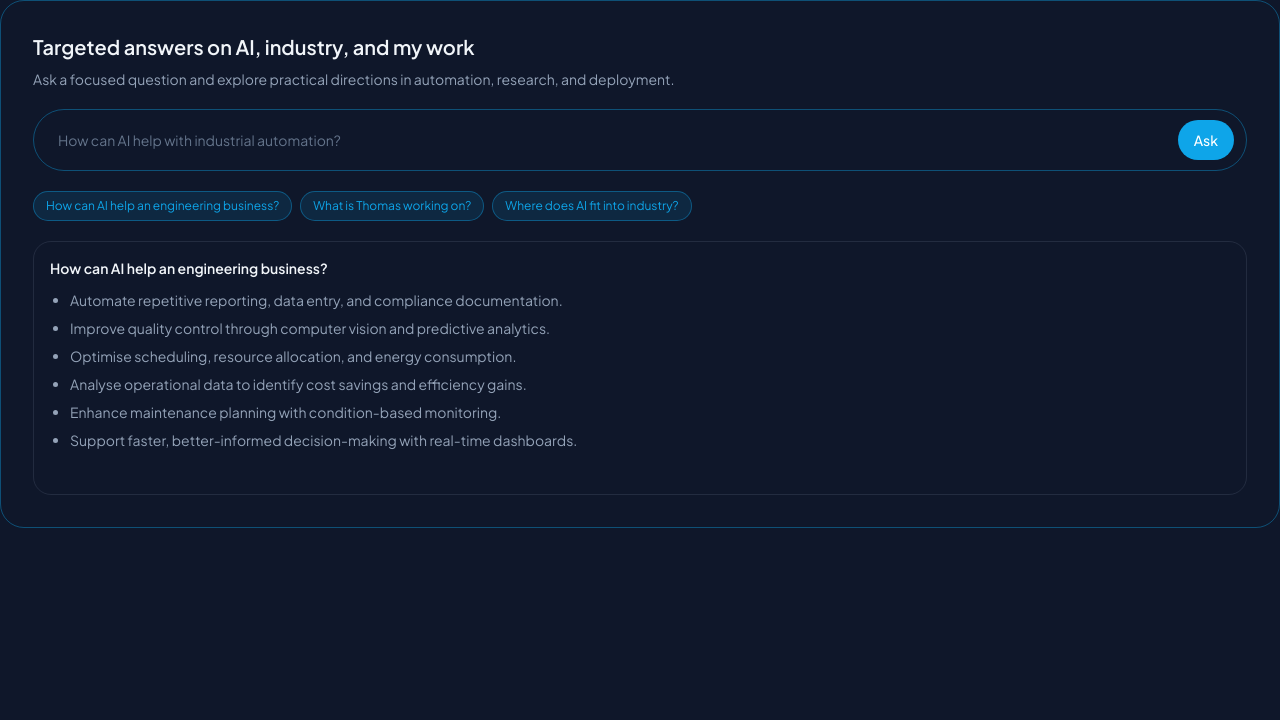
Test case: LLMInterface homepage variant › desktop contract › shows a safe error message and keeps the interface usable for another attempt
Type "First request should fail" into the field.
click(608, 140); type("First request should fail")  # box [46,118,1170,162]
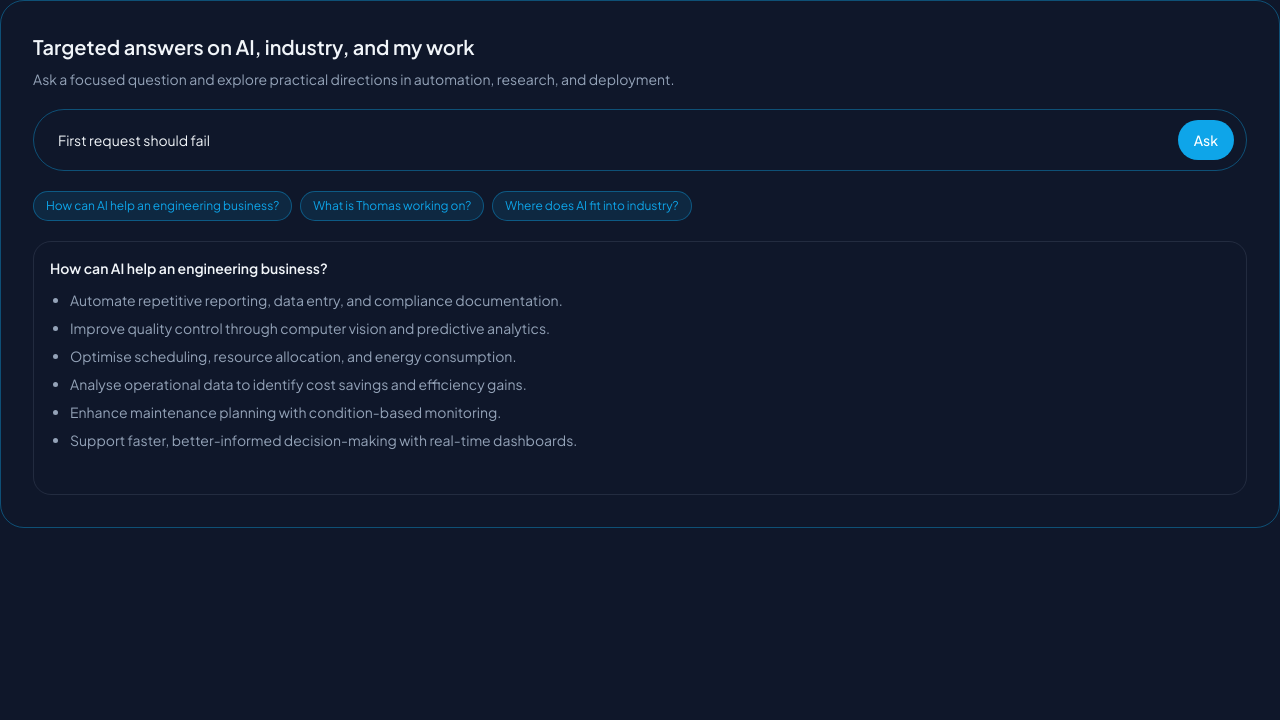
Click the button "Ask".
click(1206, 140)  # box [1178,120,1234,160]
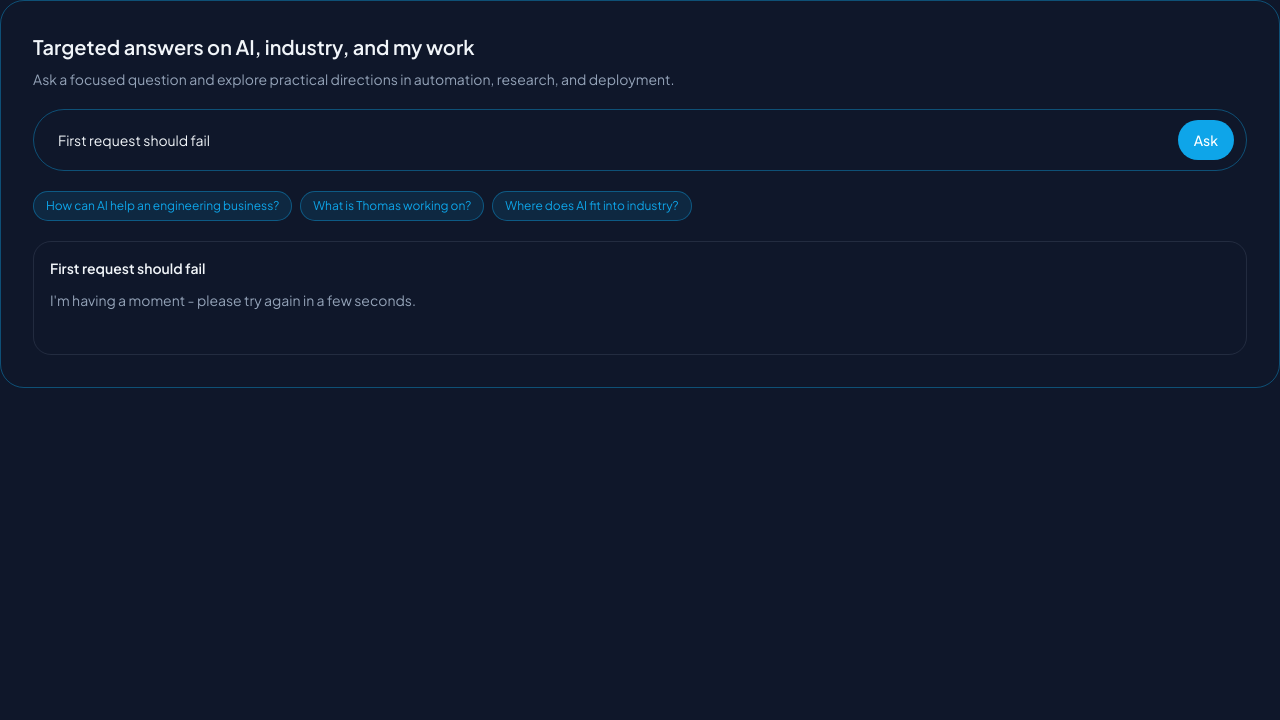
Check: the text "I'm having a moment - please try again in a few seconds." is shown, box [50,291,416,309]
Replace the text in the field with "Second request should succeed" at (608, 140), box [46,118,1170,162]
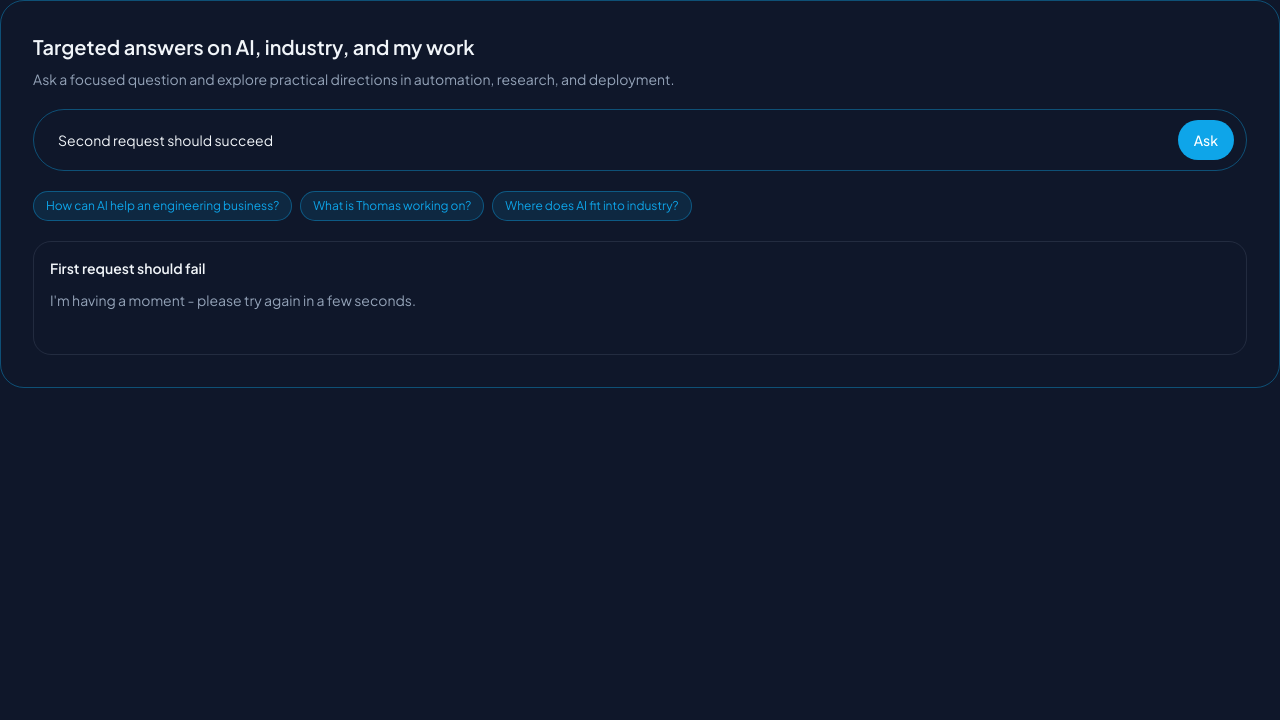
Click the button "Ask".
click(1206, 140)  # box [1178,120,1234,160]
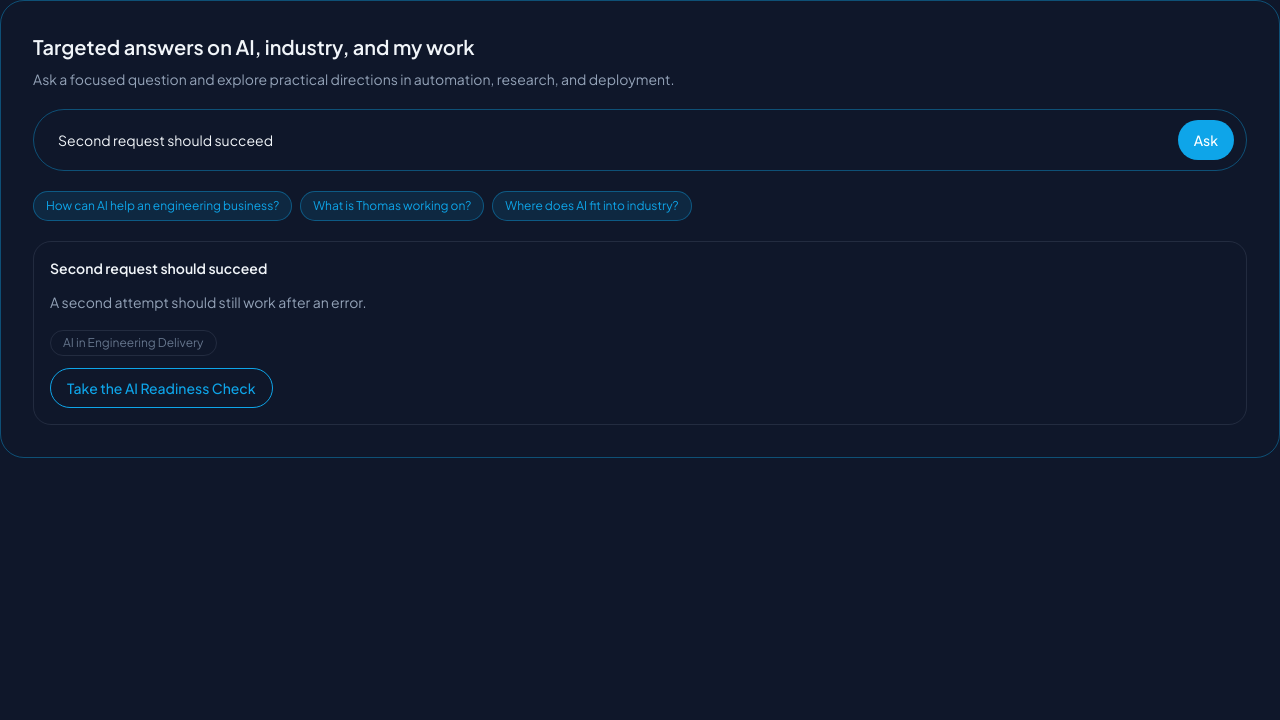
Check: the text "A second attempt should still work after an error." is shown, box [50,293,366,311]
